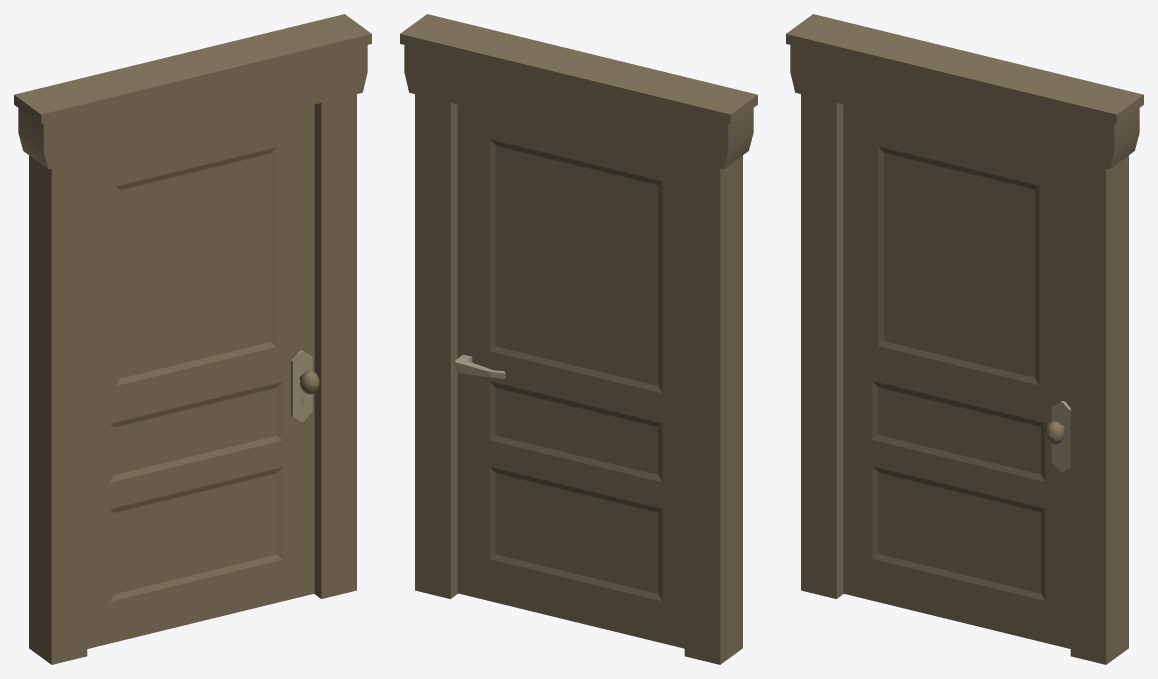
The model's file is doorFront2.fbx.
3 renders of one model, left to right at view 1: azimuth 30°, elevation 25°; view 2: azimuth 150°, elevation 25°; view 3: azimuth 330°, elevation 25°, orthographic.
Visible parts, largest first — view 1: dvere, dvere_frame, klucka; view 2: dvere, dvere_frame, Cube.001; view 3: dvere, dvere_frame, klucka.
Boxes of the visible parts, x1,y1,x2,y2 form: dvere: (87, 104, 314, 648); dvere_frame: (14, 14, 371, 664); klucka: (291, 350, 319, 421); dvere: (457, 104, 684, 648); dvere_frame: (400, 14, 757, 664); Cube.001: (455, 354, 505, 378); dvere: (843, 104, 1070, 648); dvere_frame: (786, 14, 1143, 664); klucka: (1044, 401, 1070, 472).
Size of the model in its own units: 138 by 222 by 23.91.
